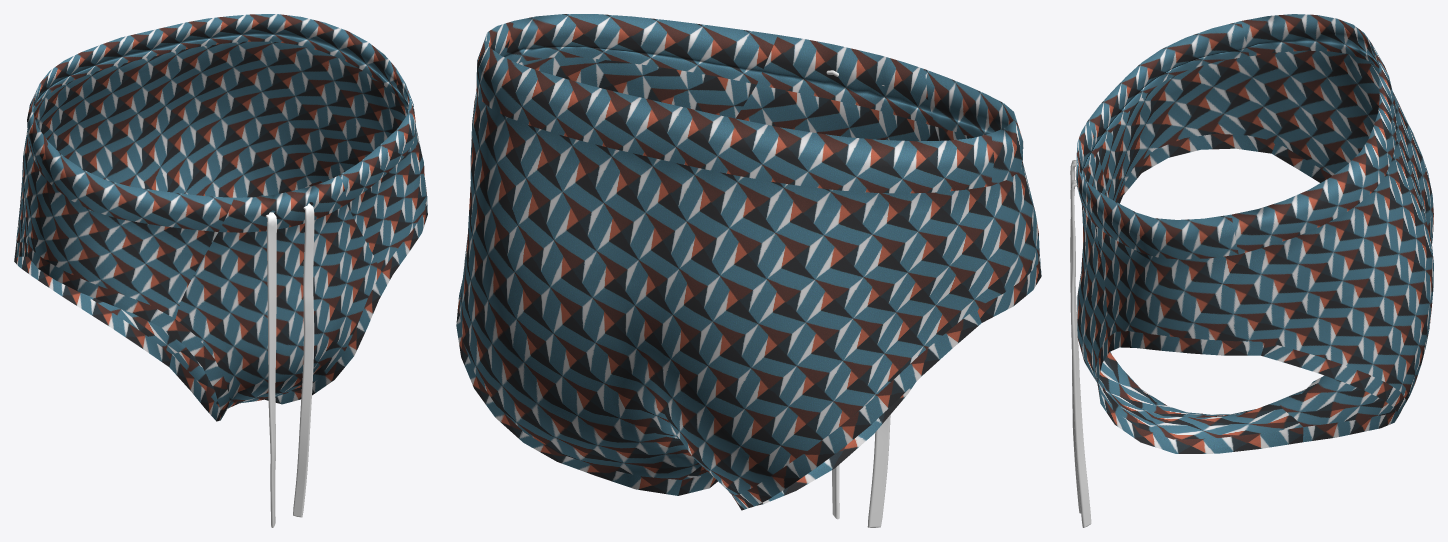
File: SwimBrief_thin_color_texture.gltf
3 renders of one model, left to right at view 1: azimuth 30°, elevation 25°; view 2: azimuth 150°, elevation 25°; view 3: azimuth 270°, elevation 25°, orthographic. The views are drawn at different scales.
Visible parts, largest first — view 1: Cloth, Trim; view 2: Cloth, Trim; view 3: Cloth, Trim.
Part boxes in pixels (<box>): Cloth: <box>14,14,427,421</box>; Trim: <box>265,203,314,527</box>; Cloth: <box>456,14,1041,510</box>; Trim: <box>826,70,890,527</box>; Cloth: <box>1076,14,1433,453</box>; Trim: <box>1070,160,1091,527</box>.
Bounding box in the file's own units: 34.49 × 35.2 × 26.41.
18 materials, 16 textured.
